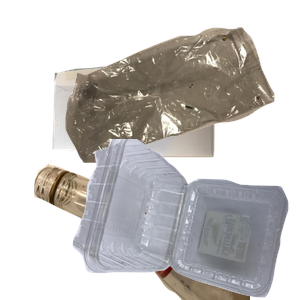glass: (31, 120, 271, 300)
paper: (50, 61, 257, 211)
plastic: (70, 139, 300, 300)
trash: (63, 24, 300, 179)
